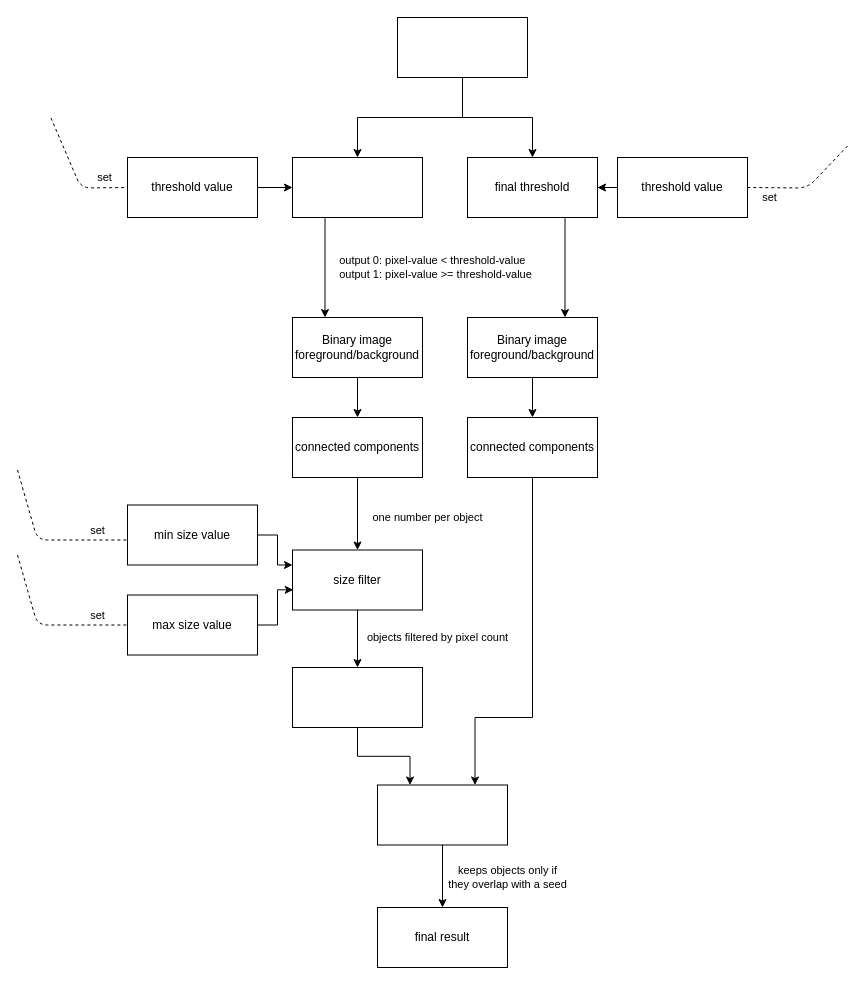
Image size: 866x985. Some labels were removed from this diagram. The shapes that lost their labels are listed below. From the top down, each one's centre as x and y in pixels, then its label:
pixel 462 47: Intensity Image, e.g. greyscale
pixel 357 187: core threshold
pixel 357 697: seed image
pixel 442 814: overlap checker
